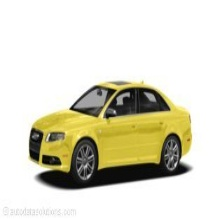no damage: (28, 81, 192, 185)
